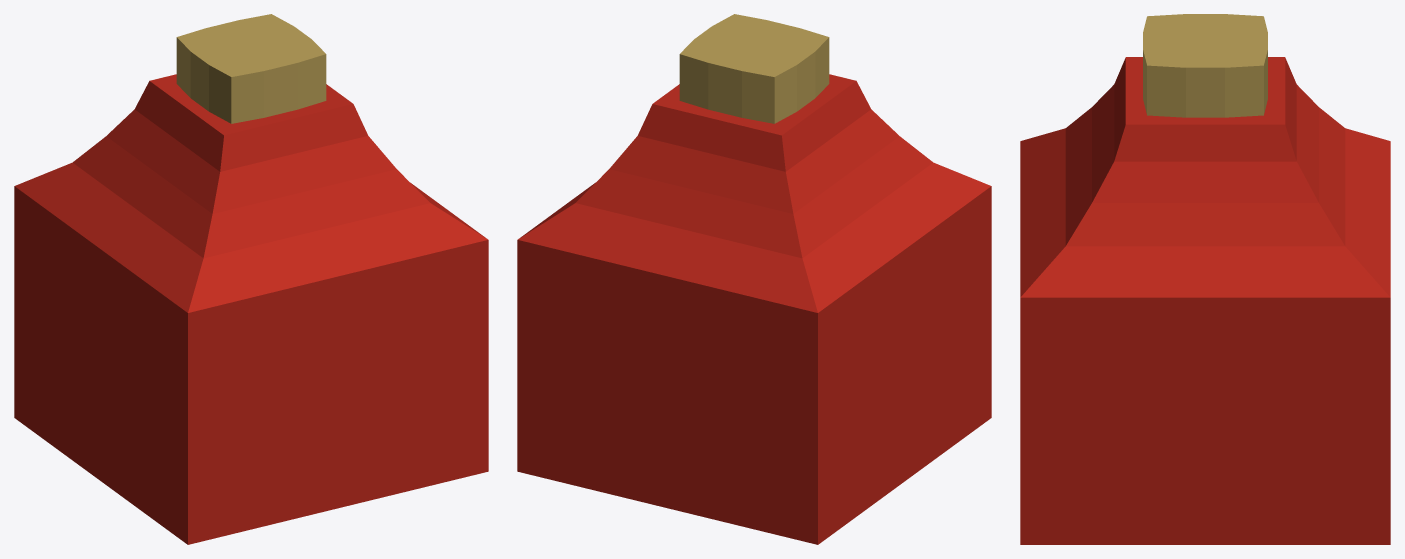
Rendered from MediumPotion_Health.fbx.
3 views of the same model, side by side, from view 1: azimuth 30°, elevation 25°; view 2: azimuth 150°, elevation 25°; view 3: azimuth 270°, elevation 25° (orthographic). The views are drawn at different scales.
Visible parts, largest first — view 1: MediumPotion_Health; view 2: MediumPotion_Health; view 3: MediumPotion_Health.
Boxes of the visible parts, left/top/right/bottom form: MediumPotion_Health: left=14, top=14, right=488, bottom=544; MediumPotion_Health: left=517, top=14, right=991, bottom=544; MediumPotion_Health: left=1020, top=14, right=1390, bottom=544.
Bounding box in the file's own units: 414 × 526 × 414.
